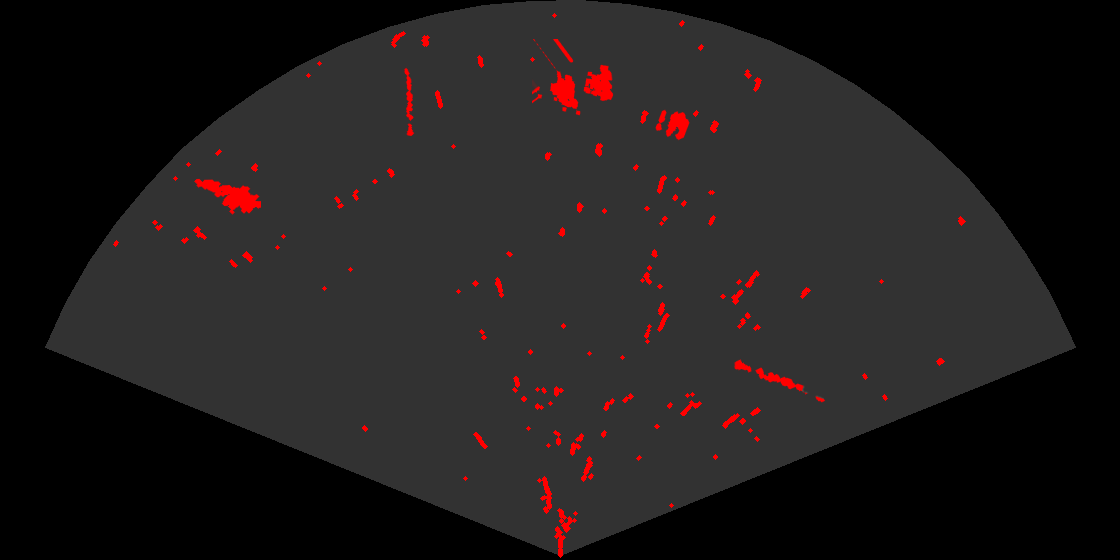ball: (654, 108, 691, 142)
cage: (532, 39, 615, 117)
chain: (732, 358, 827, 404), (402, 66, 416, 136)
frogman: (193, 177, 261, 216)
